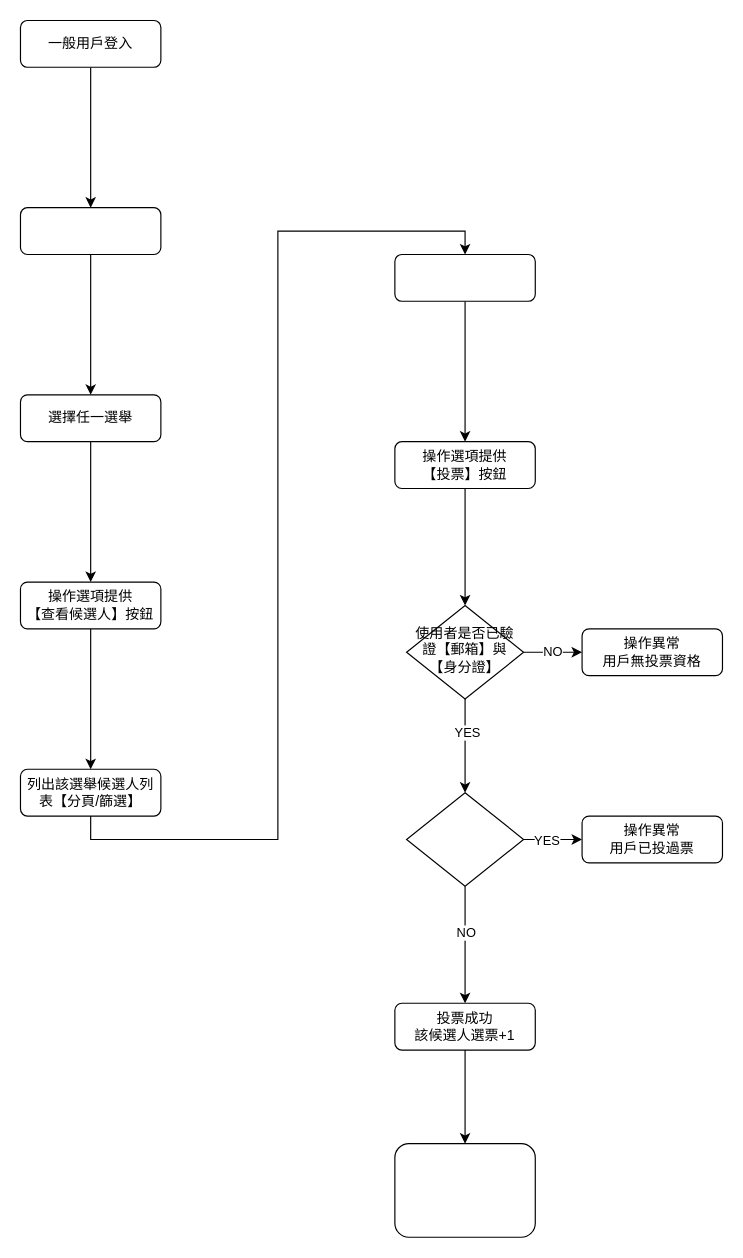
This 743x1258 diagram has some shape labels left out. The shapes that lost their labels are listed below. From the top down, each one's centre as x and y in pixels, then its label:
At pixel 90 230: "列出選舉狀態為 【POLLING】列表 【分頁/篩選】".
At pixel 464 277: "選擇一位候選人".
At pixel 464 839: "使用者是否已投票過該選舉".
At pixel 464 1190: "得到目前選舉的的候選人列表，以及目前的票數 【分頁/篩選】".
